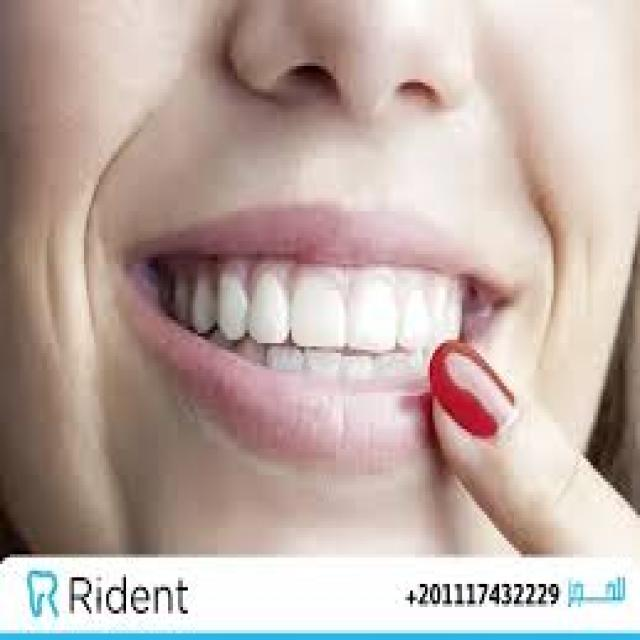tooth: (292, 267, 341, 340), (348, 270, 388, 346), (250, 274, 282, 333), (402, 294, 422, 346), (448, 300, 470, 346), (220, 277, 237, 333), (195, 270, 210, 330), (428, 290, 442, 334)
